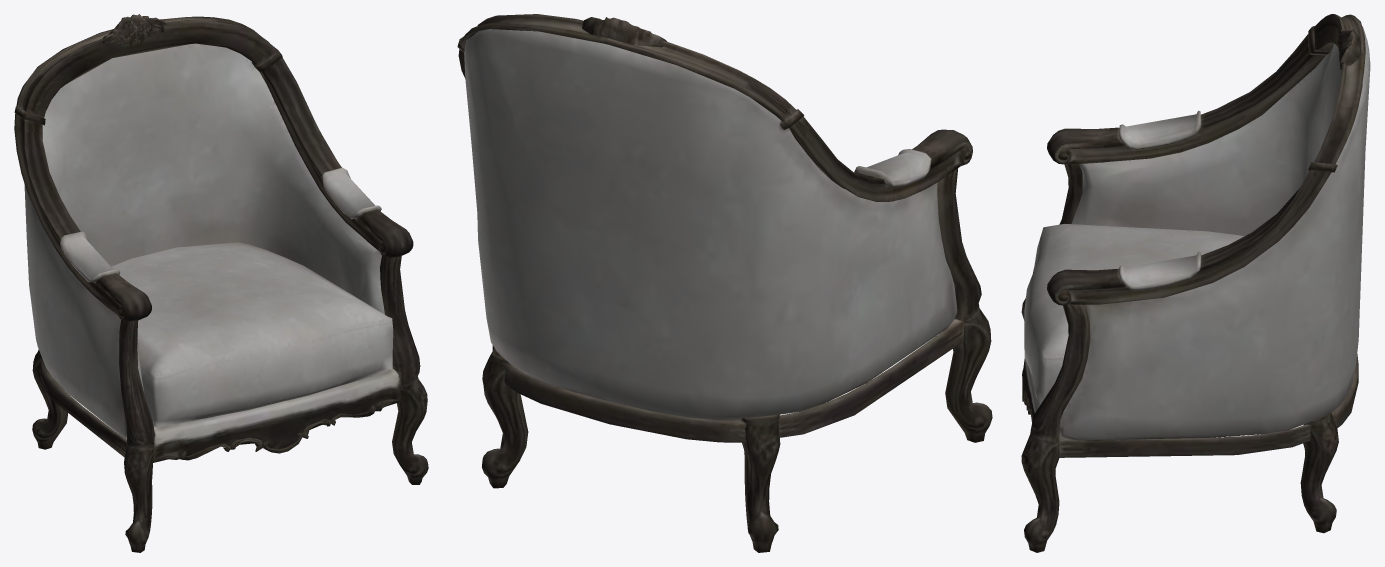
Rendered from ArmChair_01.glb.
3 views of the same model, side by side, from view 1: azimuth 30°, elevation 25°; view 2: azimuth 150°, elevation 25°; view 3: azimuth 270°, elevation 25° (orthographic). The views are drawn at different scales.
Visible parts, largest first — view 1: ArmChair_01; view 2: ArmChair_01; view 3: ArmChair_01.
Part boxes in pixels (x1=…): ArmChair_01: x1=14, y1=14, x2=428, y2=552; ArmChair_01: x1=457, y1=14, x2=992, y2=552; ArmChair_01: x1=1021, y1=14, x2=1370, y2=552.
Bounding box in the file's own units: 0.8483 × 1.06 × 0.7657.
Materials: 1 (1 with a texture image).
